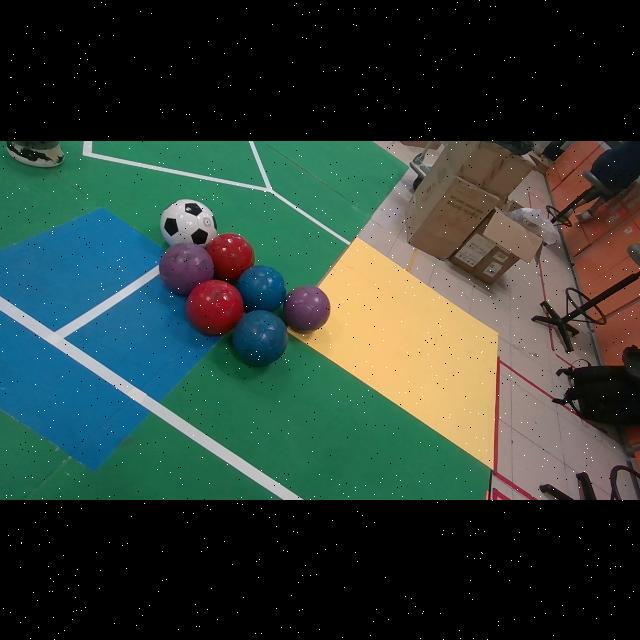B: (232, 310, 289, 366), (236, 264, 286, 311)
P: (159, 242, 214, 294), (285, 285, 330, 332)
R: (186, 278, 244, 335), (207, 233, 254, 281)
